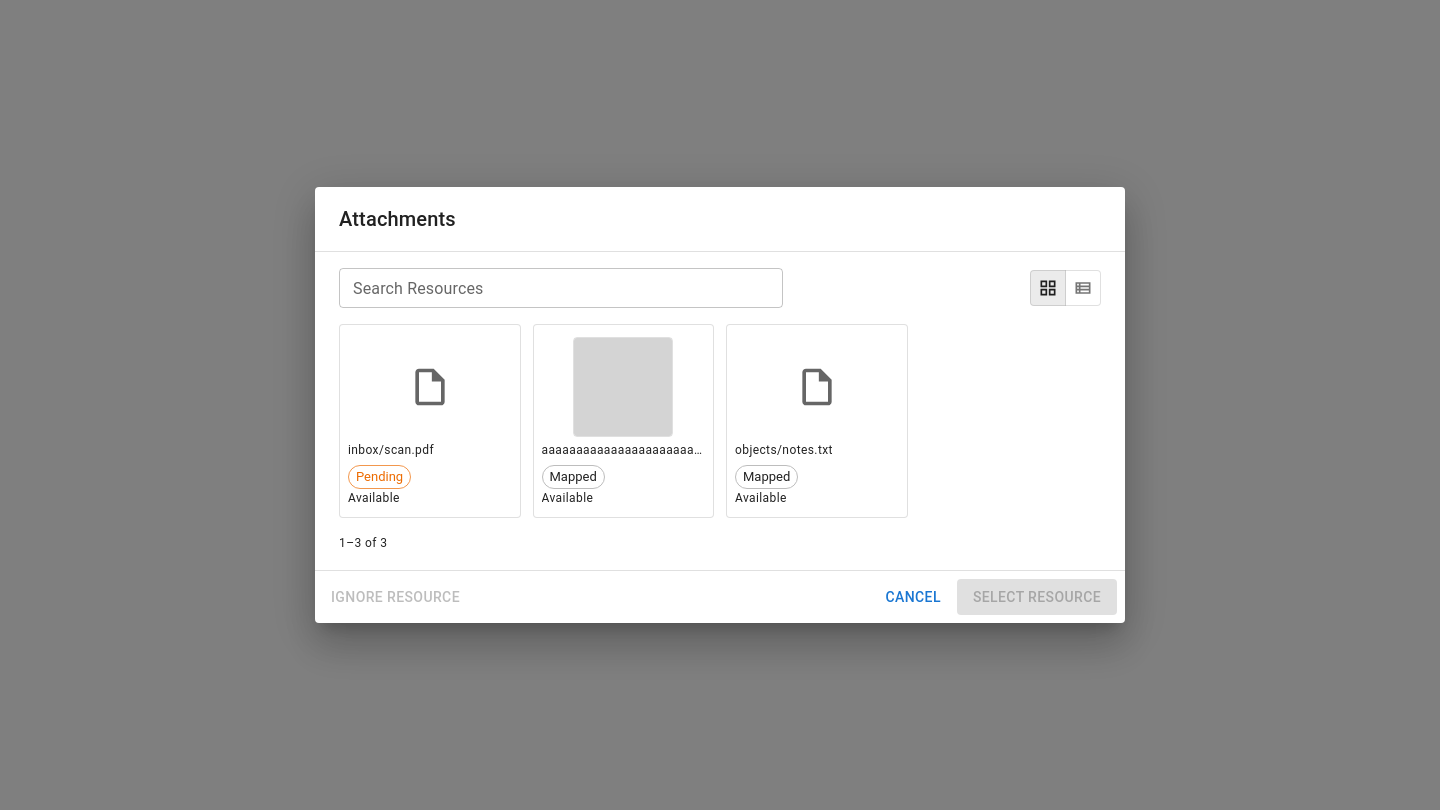
Scenario: ResourcePickerDialog list view › shows file-manager rows with location, kind and classification — and loads no thumbnails
The image size is (1440, 810).
Expected: the text "inbox/scan.pdf" is shown, [348,443,434,457]
Step 1. Click the button named "list view" → (1083, 288), box [1065,270,1101,306]
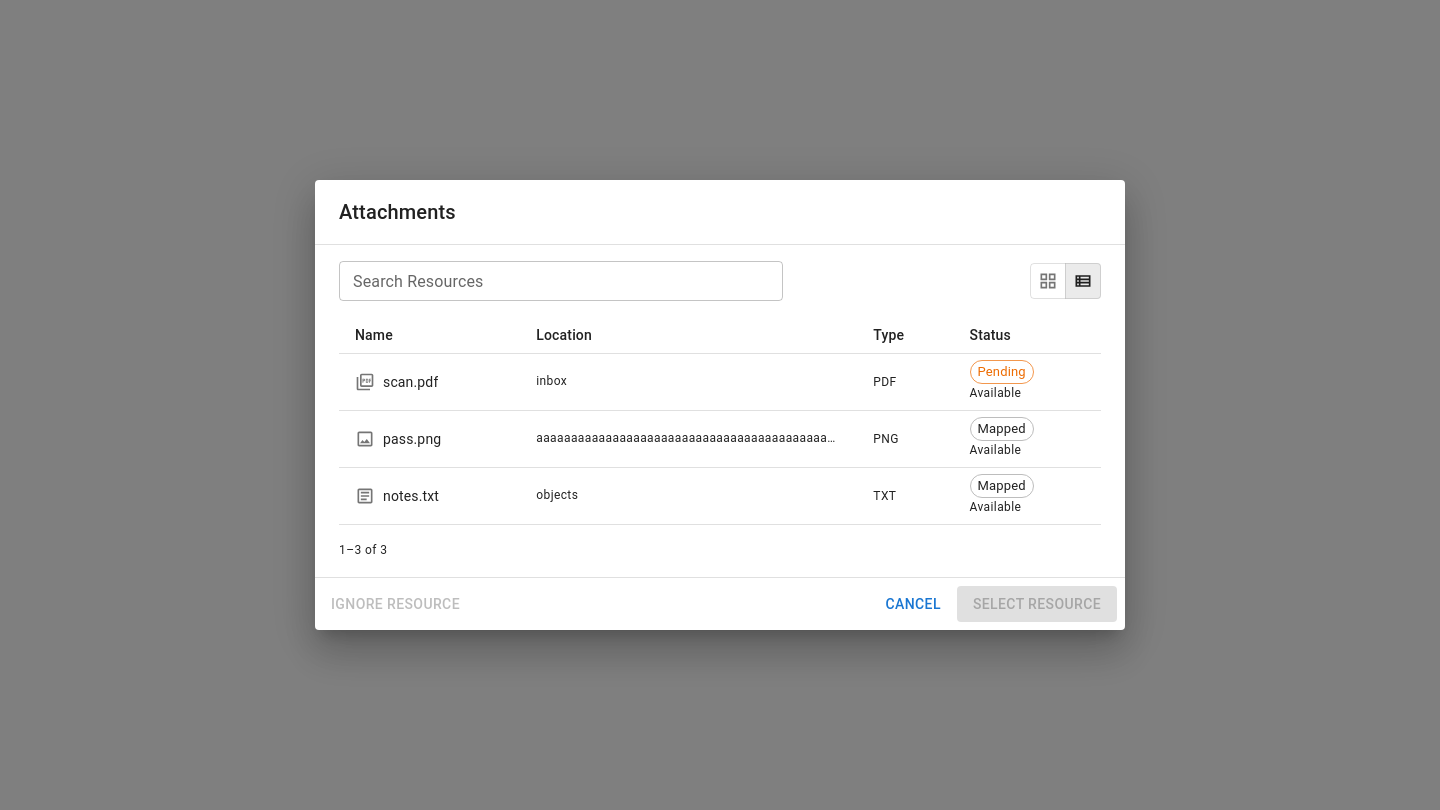
Expected: the number of radio buttons is 3, [339,353,1101,410]; [339,410,1101,467]; [339,467,1101,524]
Expected: no pictures are shown
Expected: the radio button labelled "scan.pdf inbox PDF Pending Available" is shown, [339,353,1101,410]
